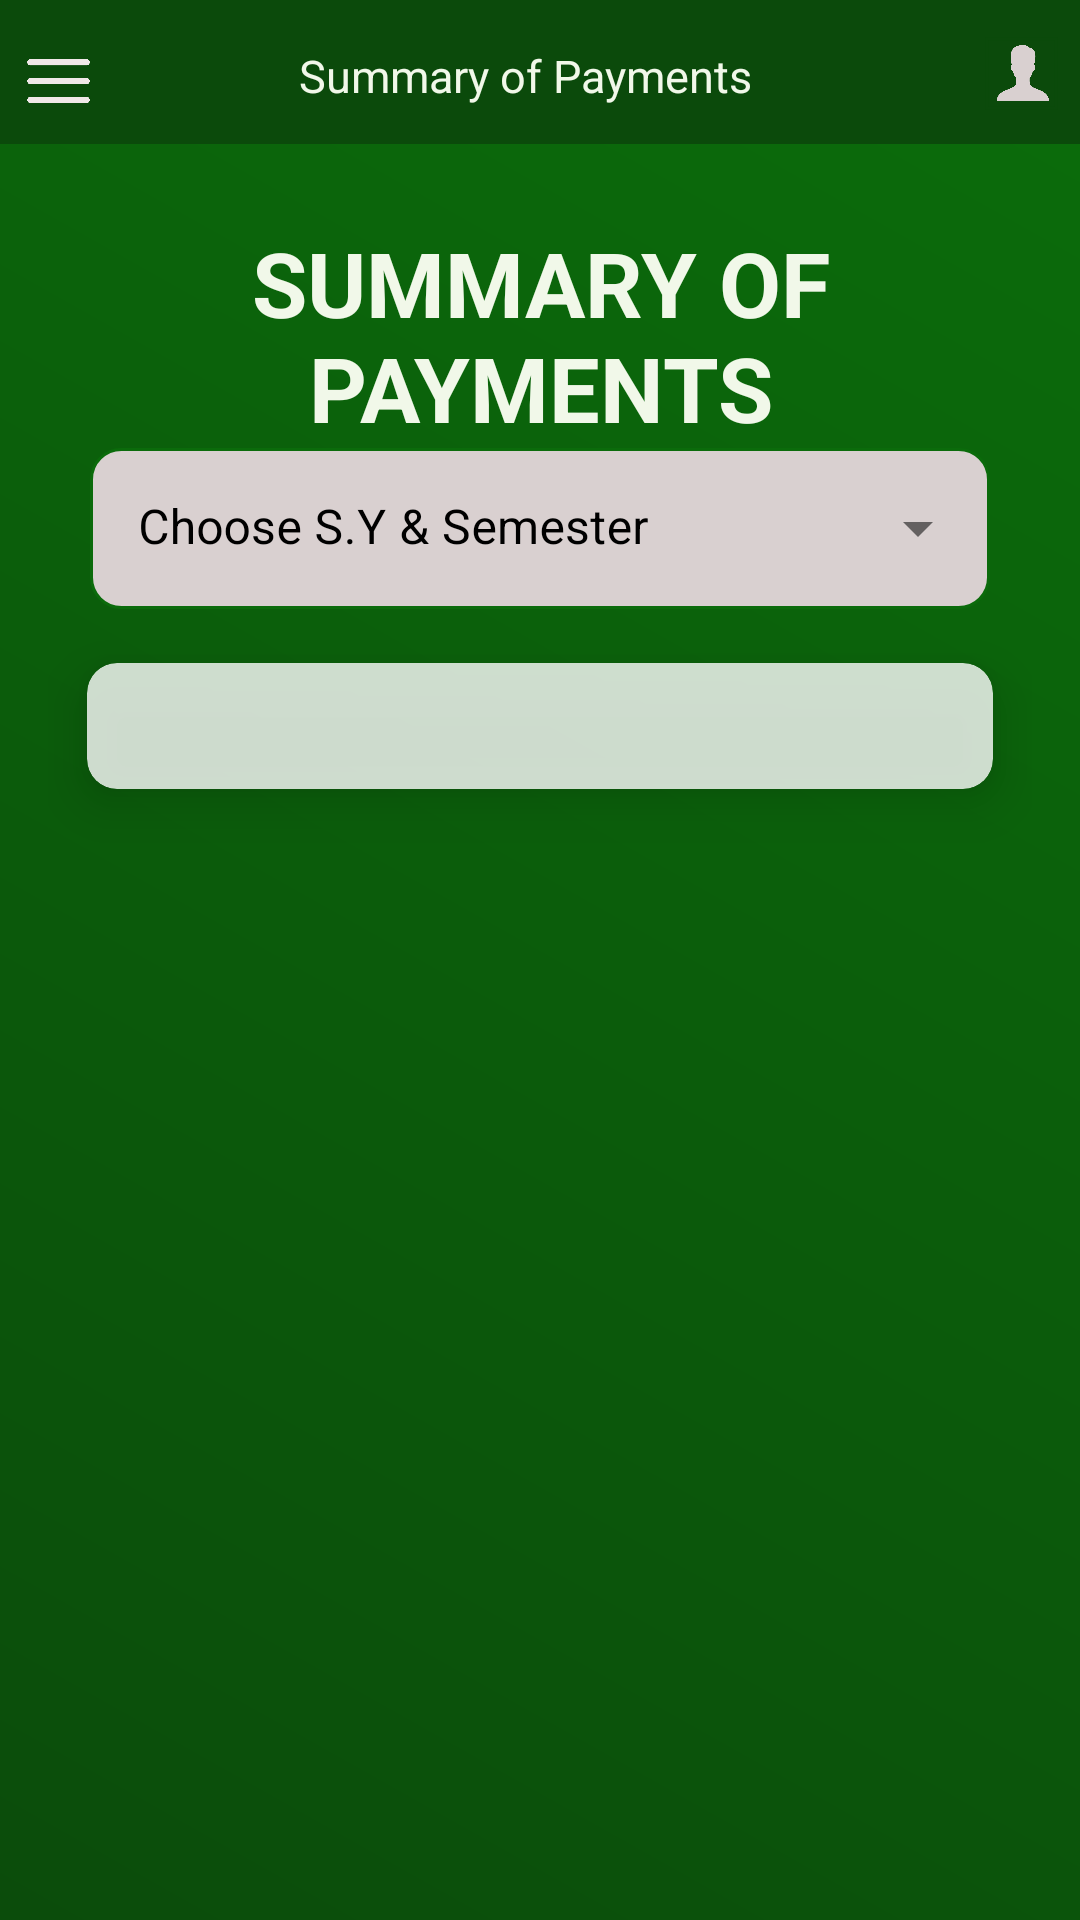

Locate icon controls on the screen. Image size 1080 x 1920, boxes as (x1, y1, x2, y2).
hamburger menu: (27, 59, 90, 103)
profile: (997, 45, 1049, 101)
